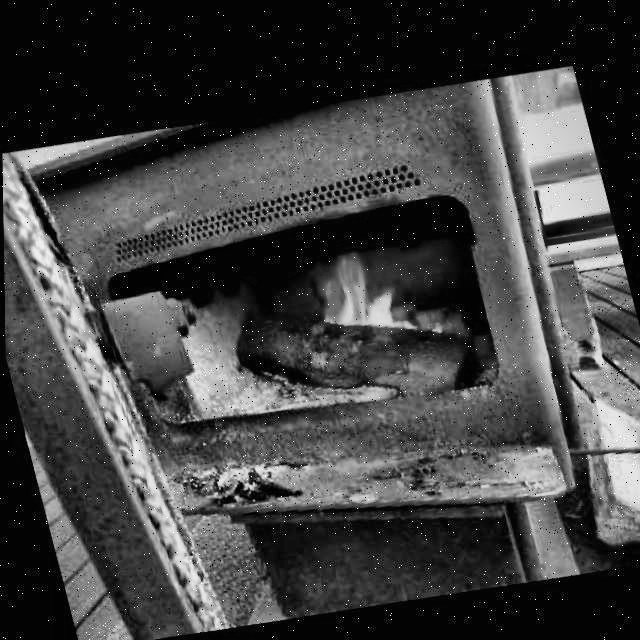Fire: (308, 234, 410, 338)
